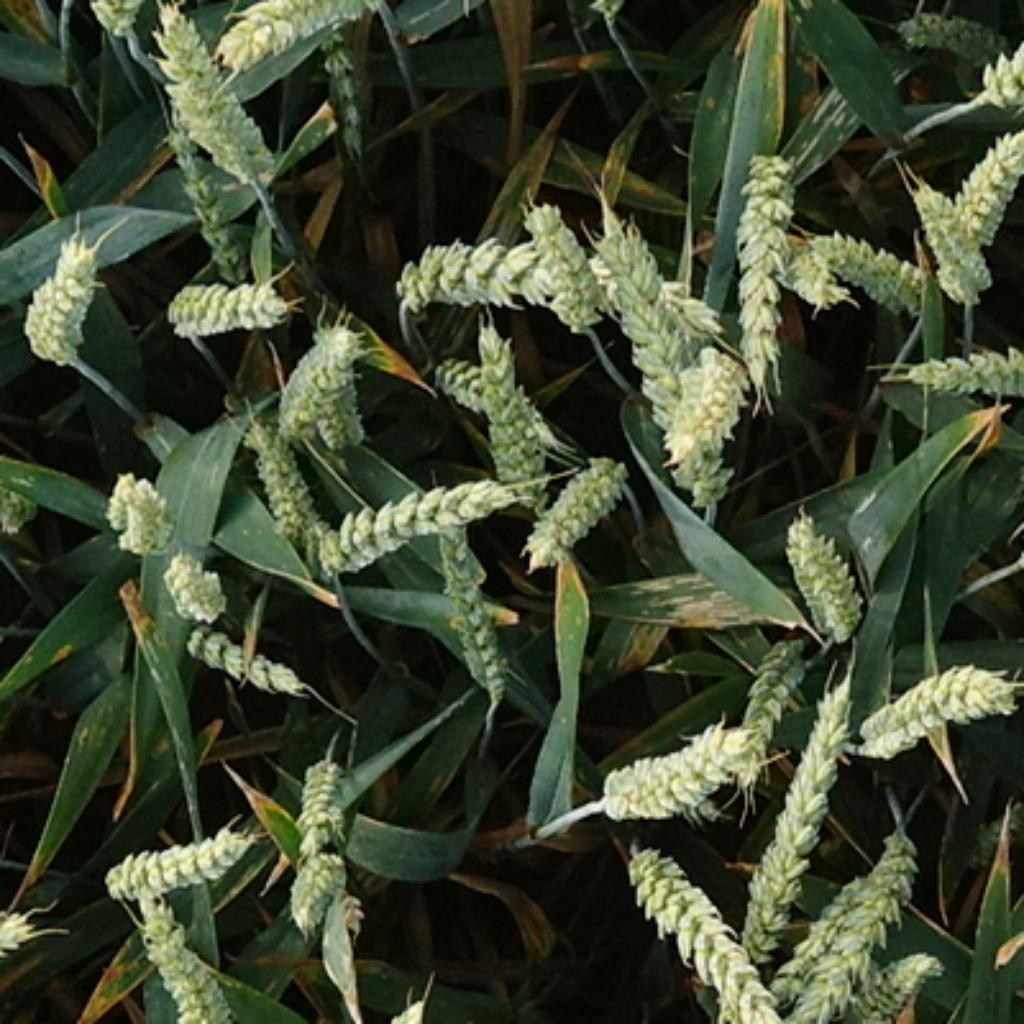0-0: (583, 207, 724, 501), (744, 655, 857, 960), (752, 829, 919, 1024), (396, 238, 727, 332), (619, 839, 785, 1024), (145, 2, 284, 186), (299, 465, 509, 568), (729, 143, 798, 412), (860, 660, 1024, 765), (596, 719, 760, 824), (465, 317, 552, 506), (427, 350, 570, 458), (762, 872, 875, 1008), (158, 122, 250, 289), (243, 414, 337, 576), (89, 821, 261, 908), (732, 629, 814, 803), (130, 898, 240, 1024), (519, 453, 634, 573), (427, 545, 519, 693), (783, 501, 878, 640), (898, 171, 993, 309), (212, 2, 389, 71), (20, 232, 99, 373), (660, 345, 747, 473), (519, 199, 599, 337), (806, 220, 929, 309), (279, 317, 363, 445), (179, 622, 309, 701), (153, 263, 294, 335), (317, 307, 381, 450), (947, 122, 1024, 240), (896, 332, 1024, 401), (322, 23, 376, 171), (885, 2, 1008, 64), (99, 468, 179, 558), (852, 949, 947, 1024), (289, 750, 353, 847), (158, 545, 232, 622), (780, 222, 834, 309), (286, 855, 343, 934), (968, 801, 1024, 872), (2, 893, 58, 960), (2, 476, 43, 540), (986, 39, 1024, 108), (89, 2, 138, 53)
